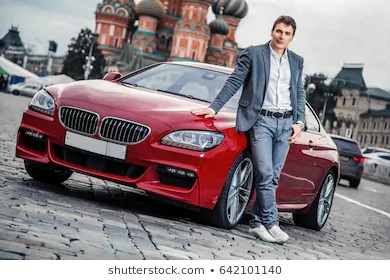F_M_suit jacket: (208, 41, 318, 138)
